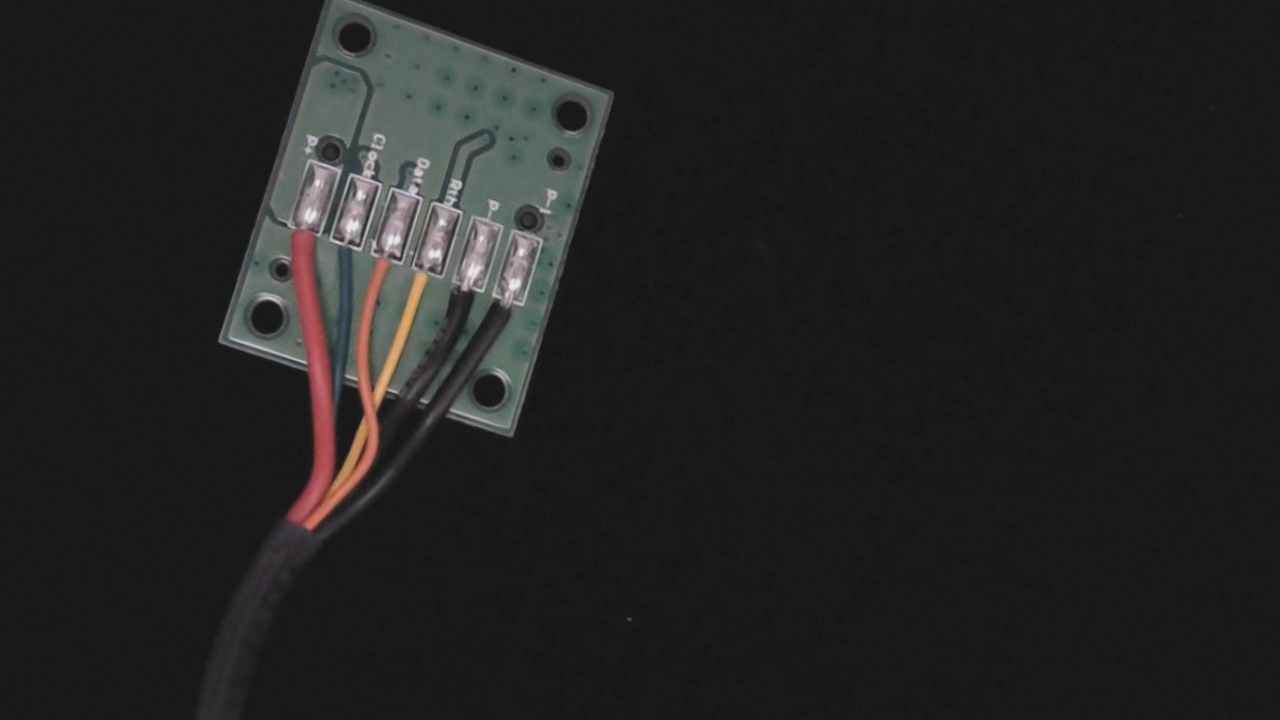Black: (430, 261, 491, 350)
Black1: (476, 274, 534, 357)
Green: (315, 214, 372, 291)
Orange: (352, 230, 411, 318)
Red: (271, 203, 331, 290)
Yellow: (393, 247, 455, 337)
